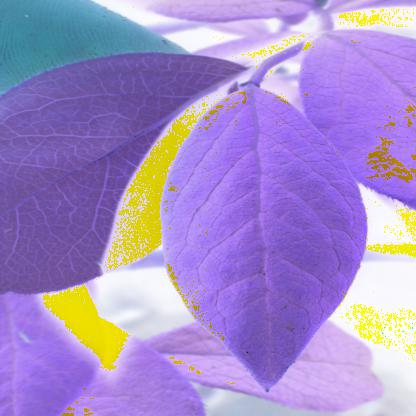blueberry leaf: (163, 79, 382, 403), (3, 46, 261, 312)
